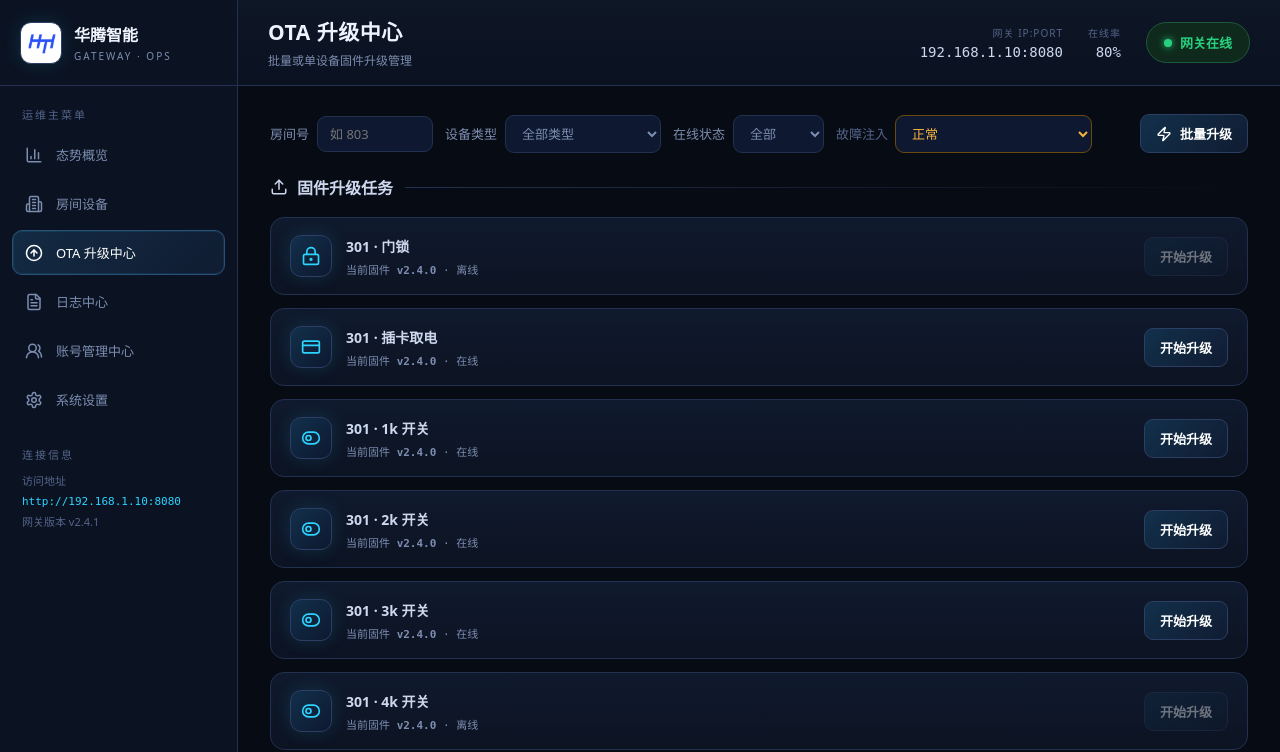
it: App › selects all visible upgradeable devices and keeps hidden selections in the batch
Click the button "批量升级" at [1194, 134], box [1140,114,1248,153]
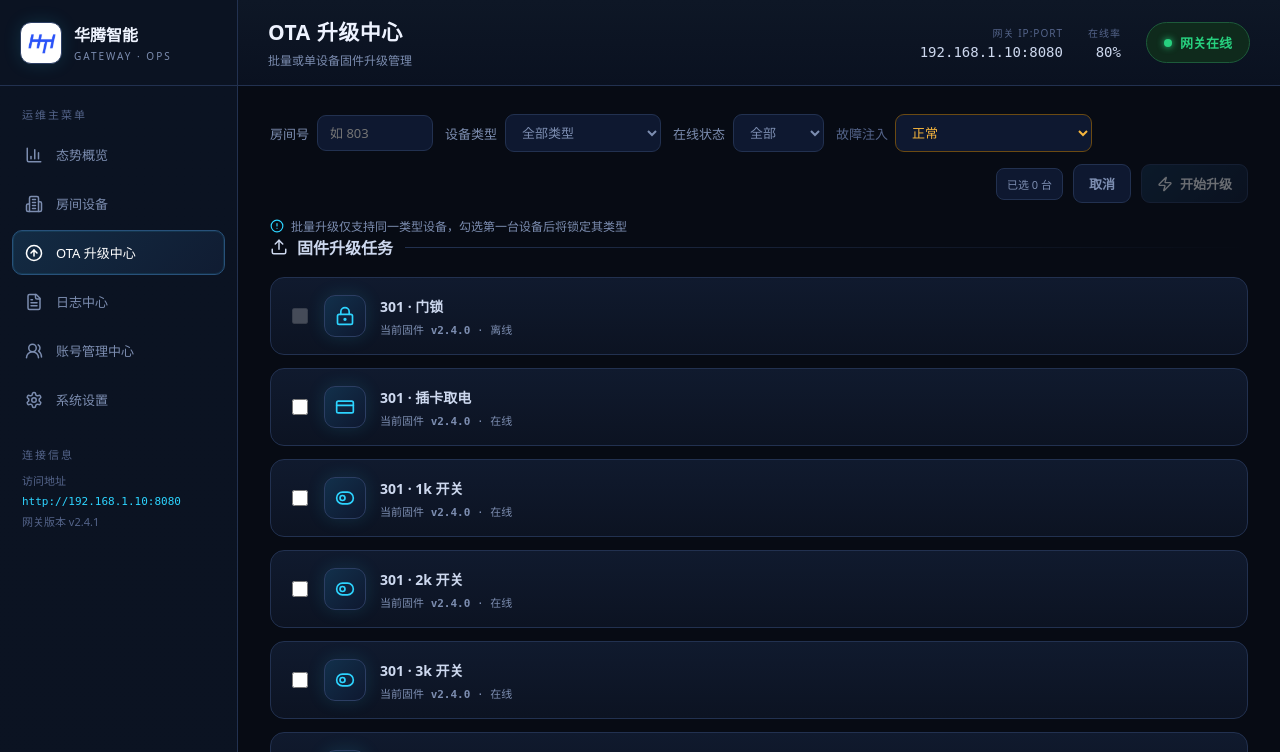
Check: the number of buttons with class "ghost-button" is 1, box [1073,164,1131,203]
Check: the button with class "ghost-button" reads "取消", box [1073,164,1131,203]
Check: the text with class "count-tag" reads "已选 0 台", box [1007,176,1052,192]
先按类型筛选再「全选」：只勾当前筛选结果里可升级的设备。
Select "2路灯光驱动" in the dropdown labelled "设备类型" at [583, 133], box [505,114,661,152]
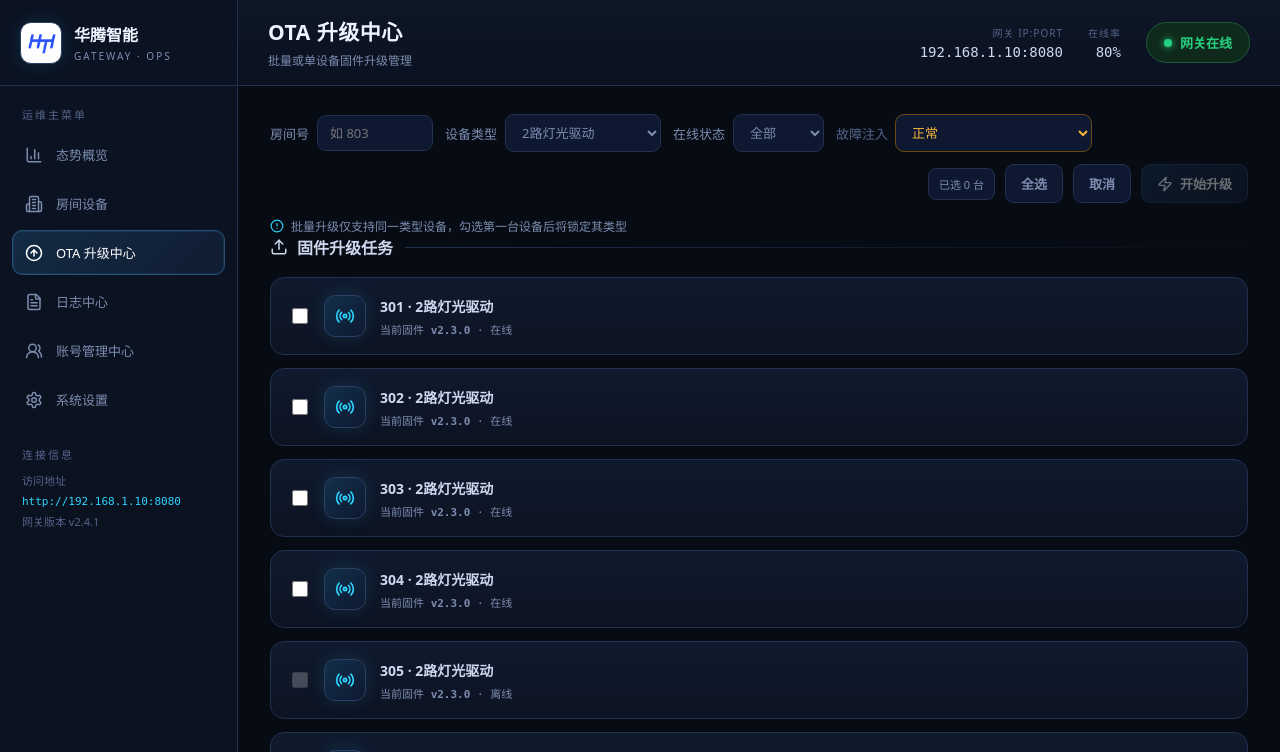
Check: the number of elements with class "ota-item" is 28
Check: the number of buttons with class "ghost-button" is 2
Click the button with class "ghost-button" showing "全选" at [1034, 184], box [1005,164,1063,203]
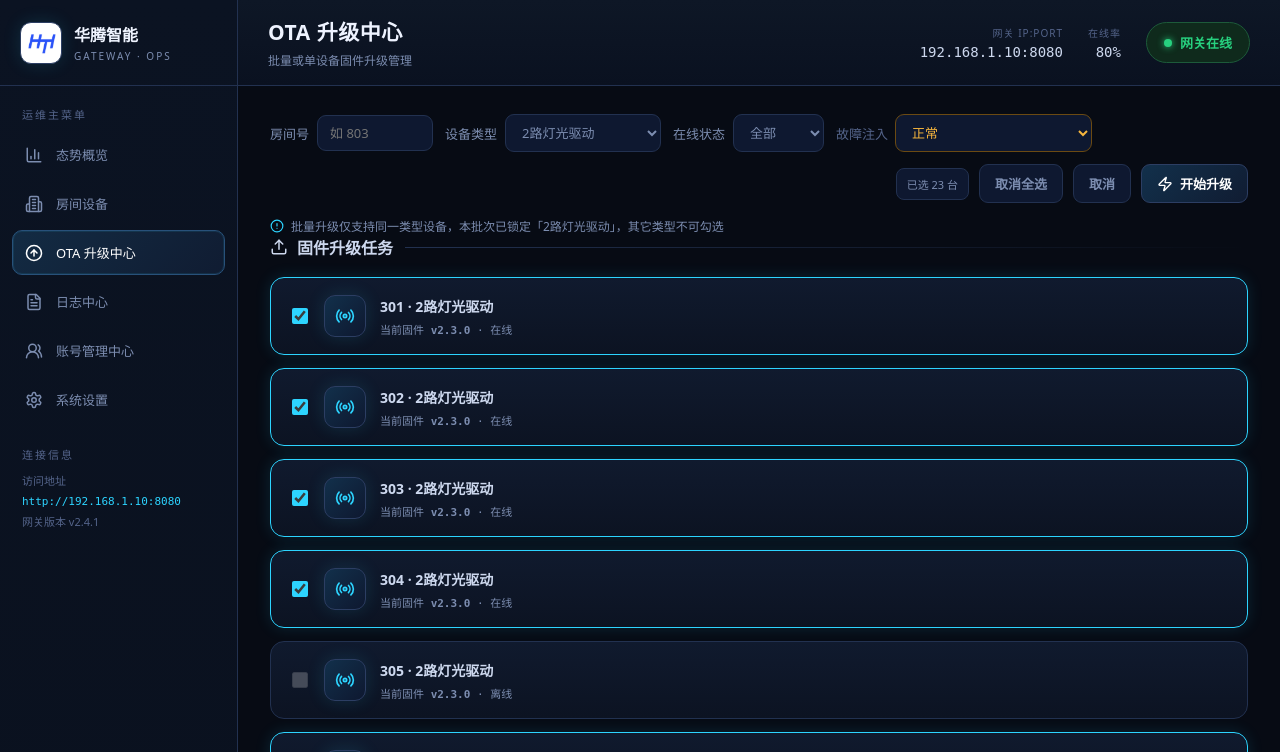
Check: the number of elements with class "ota-item" is 23
用房间号筛掉大部分设备：勾选不因筛选而丢失，并提示有多少台不在当前筛选内。
Type "302" into the field labelled "房间号" at [375, 133], box [330,116,420,150]
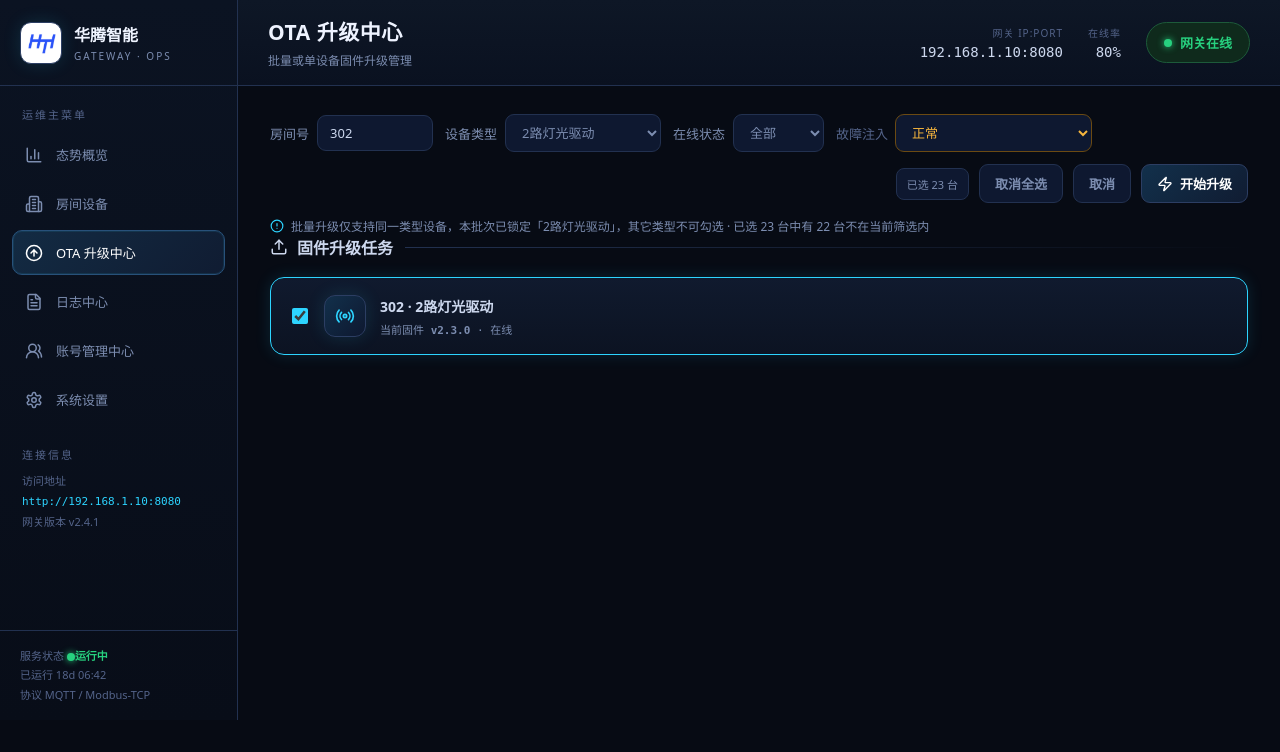
Check: the button with class "ghost-button" reads "取消全选", box [979,164,1063,203]
只看离线的灯具：结果里没有可升级设备，这时「全选」才置灰，并用悬停文案说明原因。
Clear the field labelled "房间号" at [375, 133], box [330,116,420,150]
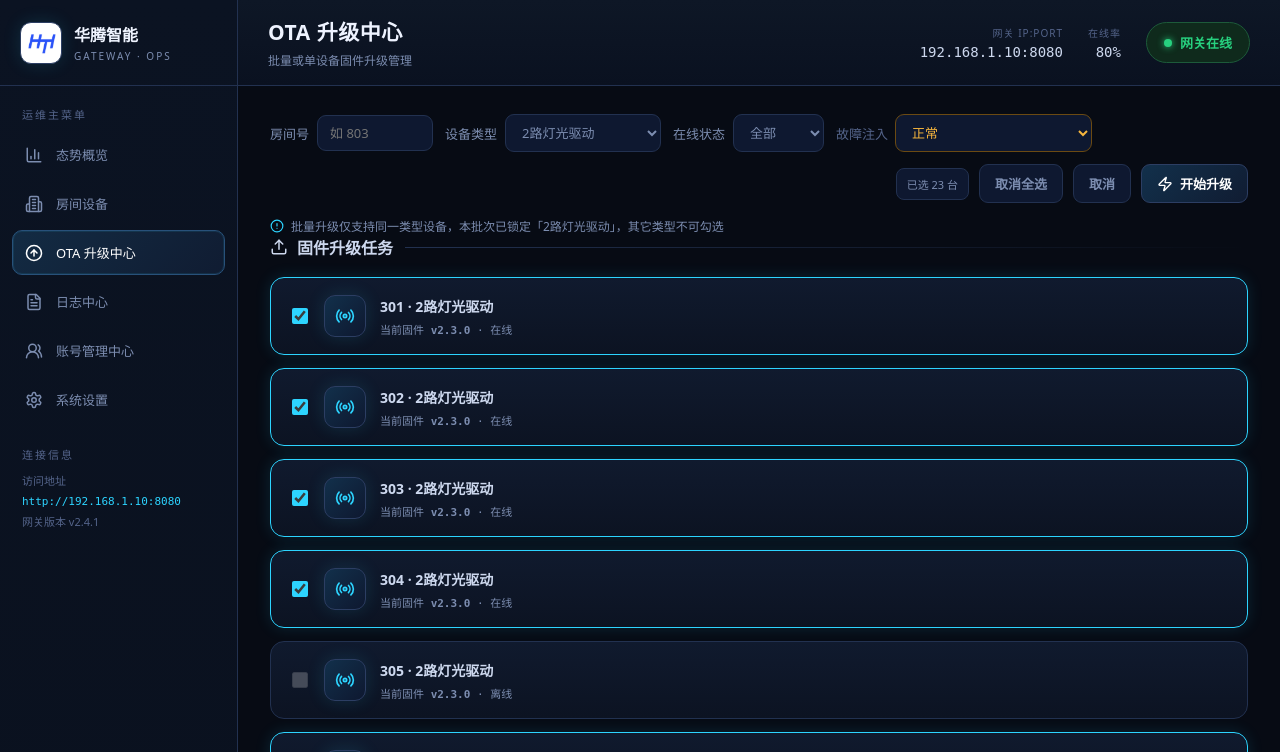
Select "离线" in the dropdown labelled "在线状态" at [778, 133], box [733,114,824,152]
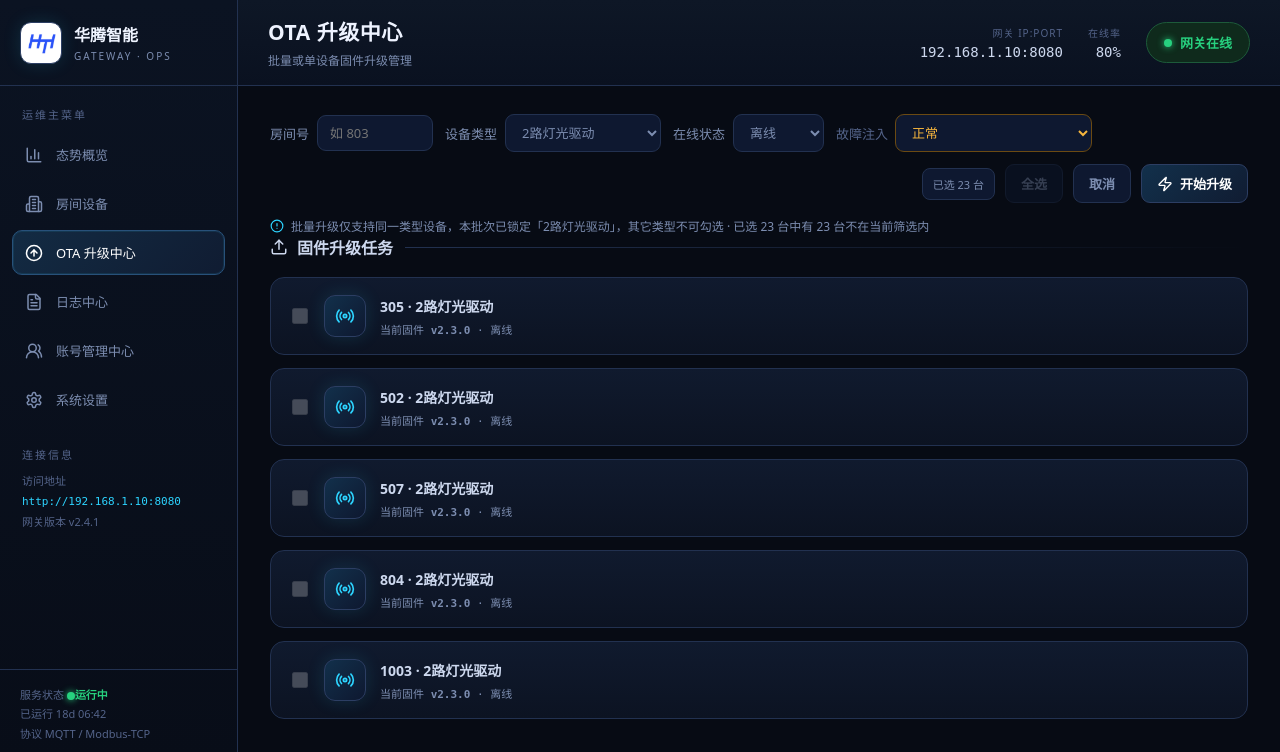
Check: the button with class "ghost-button" showing "全选" is disabled, box [1005,164,1063,203]
